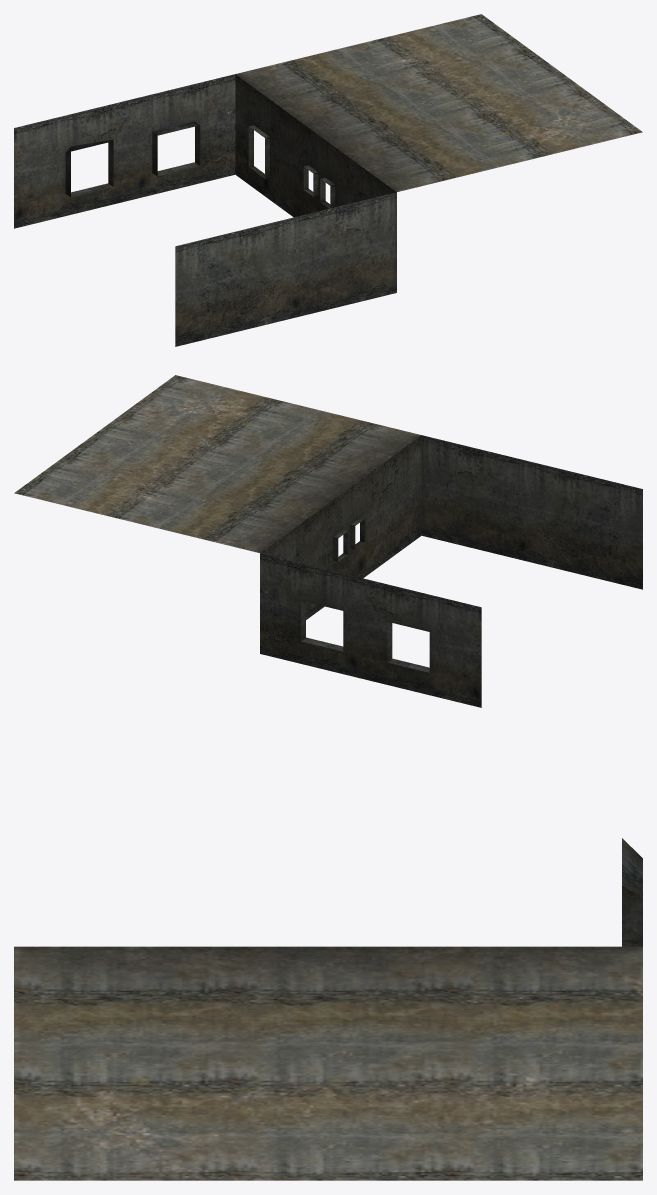
File: GroundBase.FBX
3 renders of one model, top to bottom at view 1: azimuth 30°, elevation 25°; view 2: azimuth 150°, elevation 25°; view 3: azimuth 270°, elevation 25°, orthographic. The views are drawn at different scales.
Parts seen in each view (by area): view 1: GroundBase; view 2: GroundBase; view 3: GroundBase.
Part boxes in pixels (box(x1,y1,x2,y2)): GroundBase: box(14, 14, 642, 346); GroundBase: box(14, 375, 642, 707); GroundBase: box(14, 838, 642, 1180).
Bounding box in the file's own units: 2485 × 511 × 1487.
